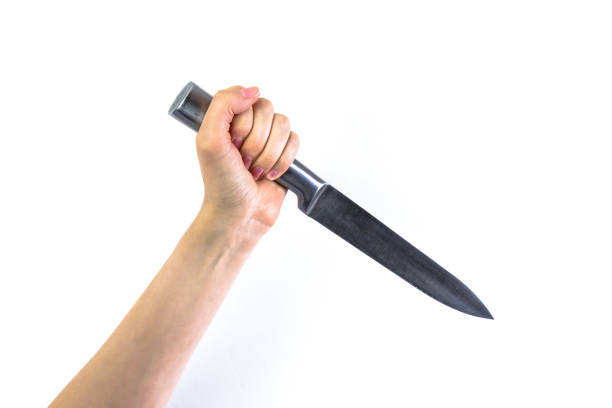knife: (166, 79, 498, 321)
